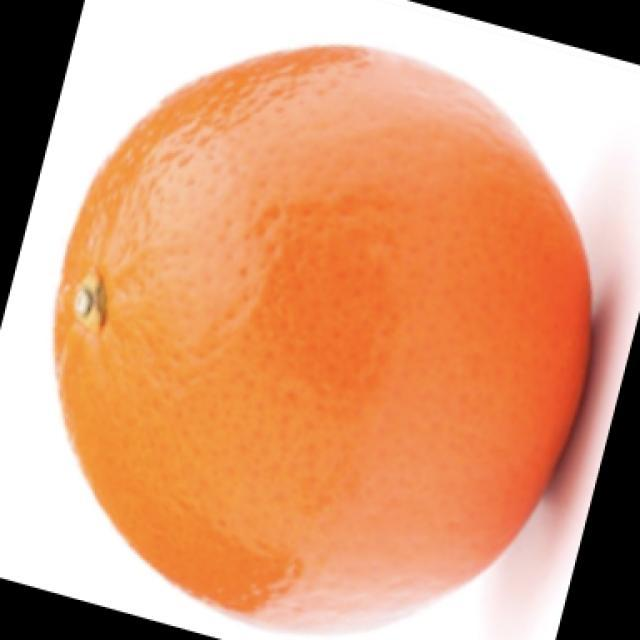Orange: (51, 42, 593, 636)
